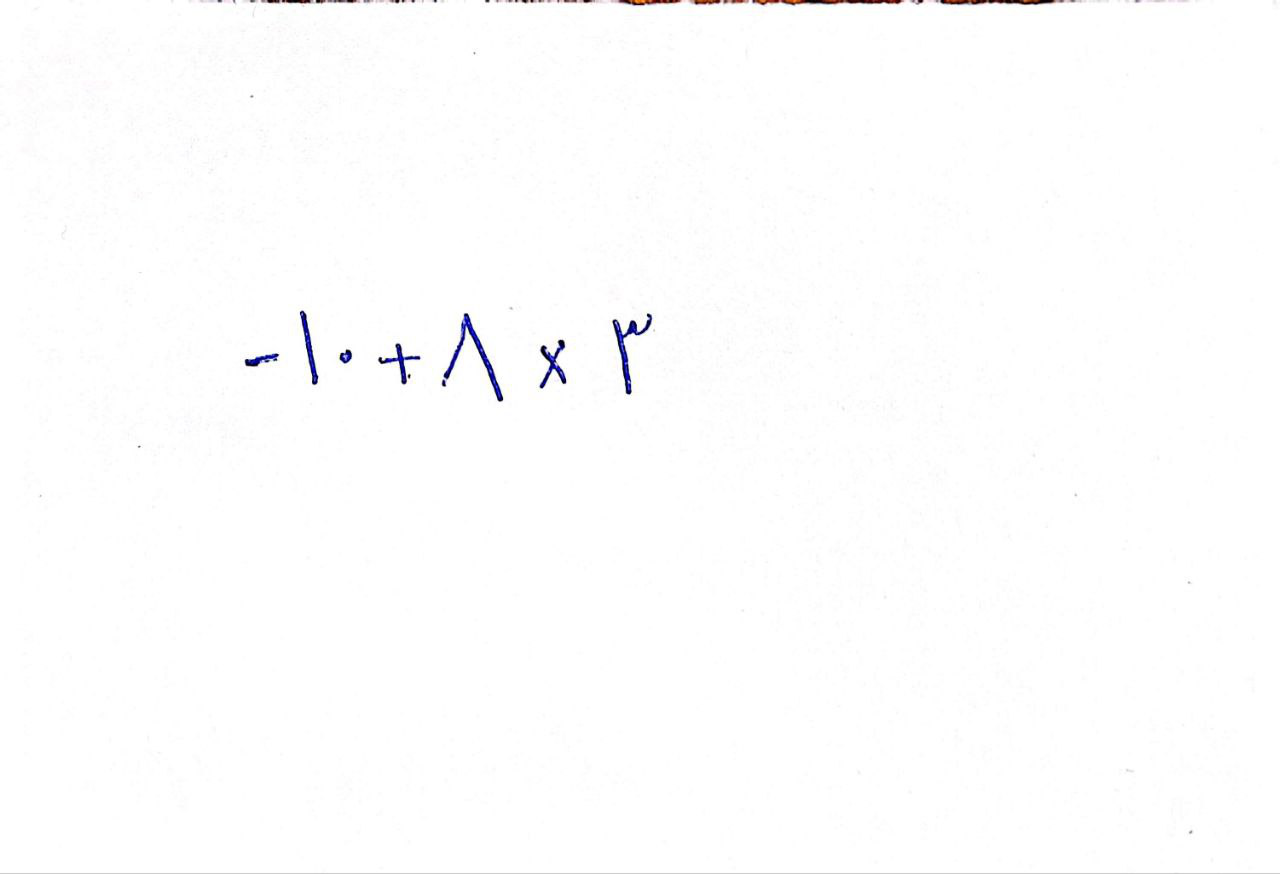character: (438, 312, 505, 404), (610, 314, 654, 396), (380, 342, 419, 388), (300, 309, 321, 388), (536, 340, 568, 391), (242, 352, 283, 371), (335, 348, 360, 365)
